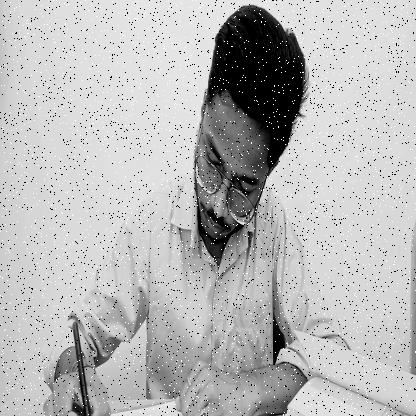Distracted: (192, 0, 306, 259)
